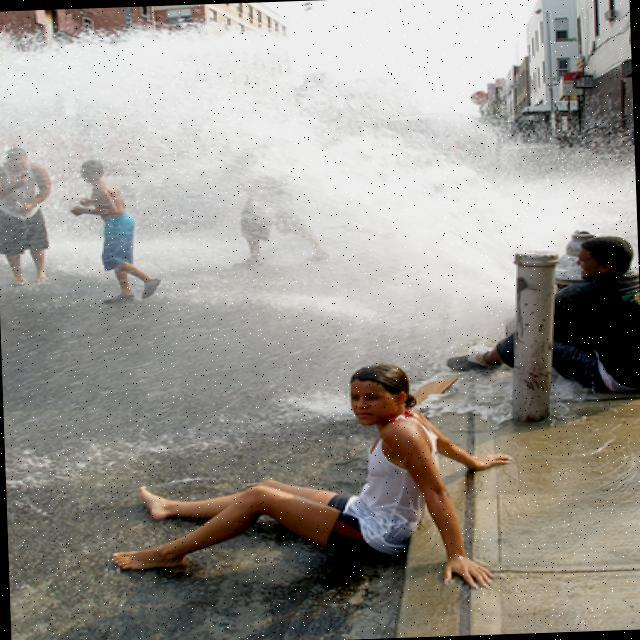fire_hydrant: (552, 227, 594, 290)
